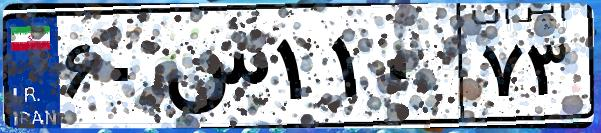0: (385, 28, 445, 110), (110, 28, 158, 98)
1: (270, 28, 330, 110), (330, 28, 385, 110)
3: (525, 38, 570, 115)
6: (57, 26, 110, 100)
7: (475, 38, 525, 113)
س: (158, 20, 270, 120)
